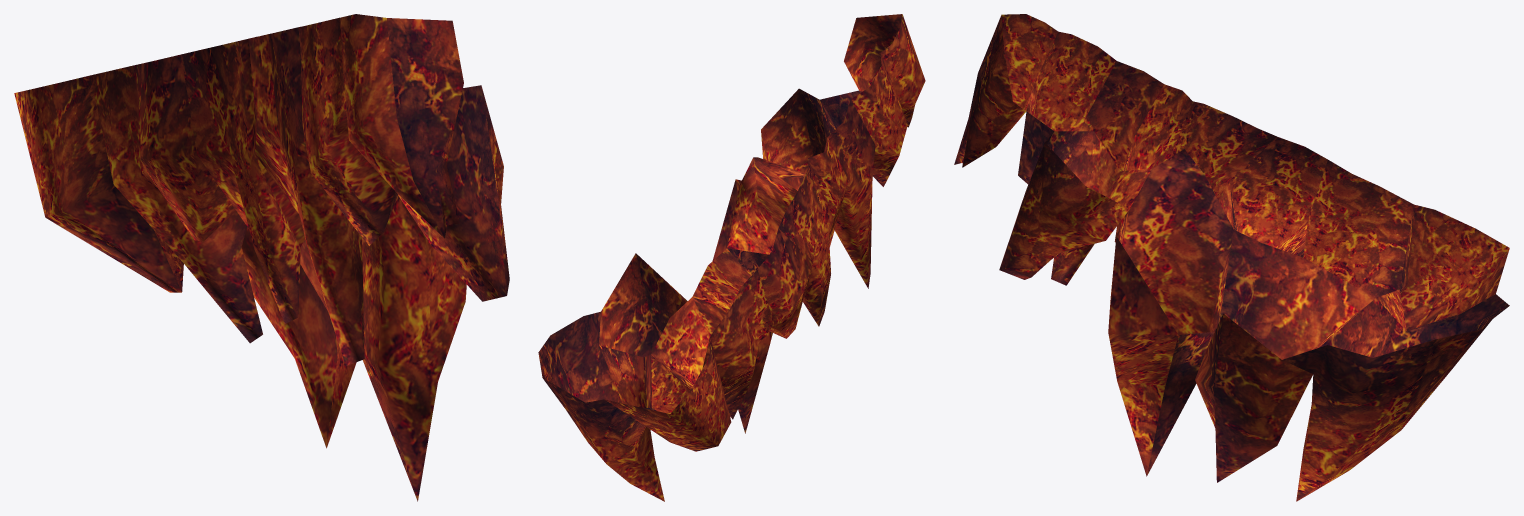
File: Scene_rongyan_001.FBX
The picture shows the model from 3 angles, left to right: view 1: azimuth 30°, elevation 25°; view 2: azimuth 150°, elevation 25°; view 3: azimuth 270°, elevation 25°; orthographic projection. The views are drawn at different scales.
Parts seen in each view (by area): view 1: Scene_rongyan_001; view 2: Scene_rongyan_001; view 3: Scene_rongyan_001.
Part boxes in pixels (x1,y1,x2,y2): Scene_rongyan_001: (14, 14, 509, 501); Scene_rongyan_001: (538, 14, 925, 501); Scene_rongyan_001: (954, 14, 1509, 501).
Size of the model in its own units: 5.89 by 11.26 by 13.01.
